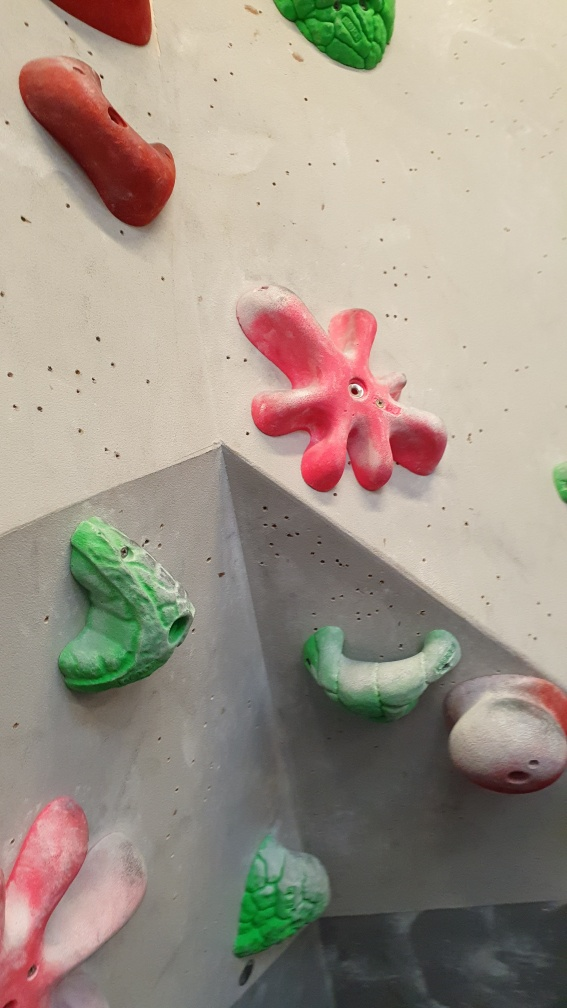Hand Start: (234, 957, 265, 989)
Jug: (295, 607, 472, 729), (231, 828, 337, 964)
Octopus Pinch: (235, 274, 453, 496), (2, 790, 154, 1007)
Sloper: (444, 679, 567, 799)
